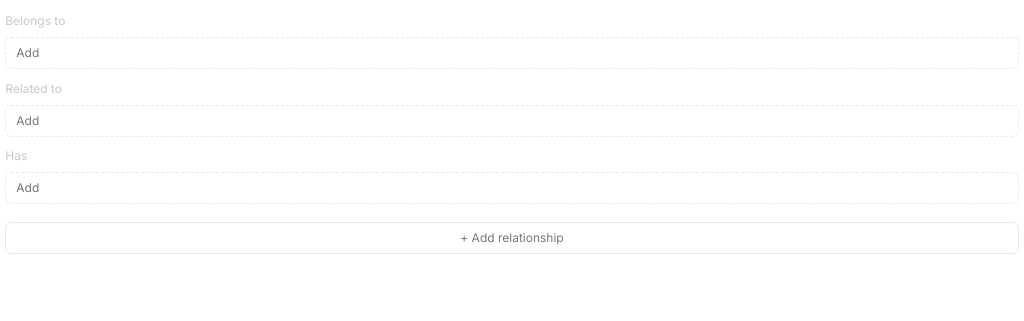
Test: DynamicRelationshipsPanel › cancels add relationship form
The width and height of the screenshot is (1024, 321).
Click the button "+ Add relationship" at (512, 238), box [5, 222, 1019, 254]
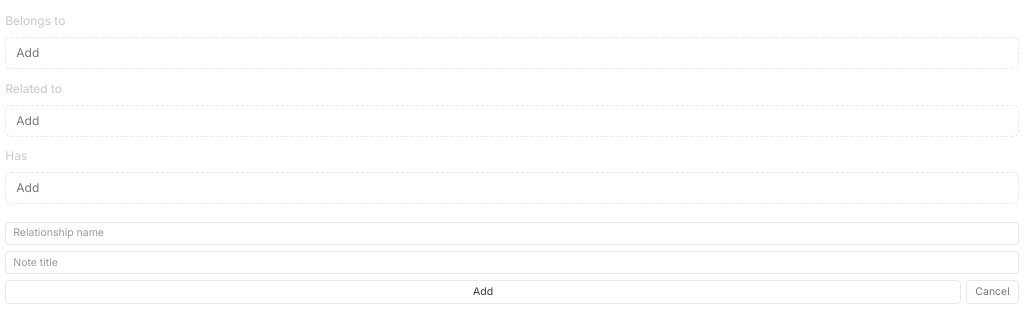
Click the button "Cancel" at (992, 292), box [966, 280, 1019, 304]
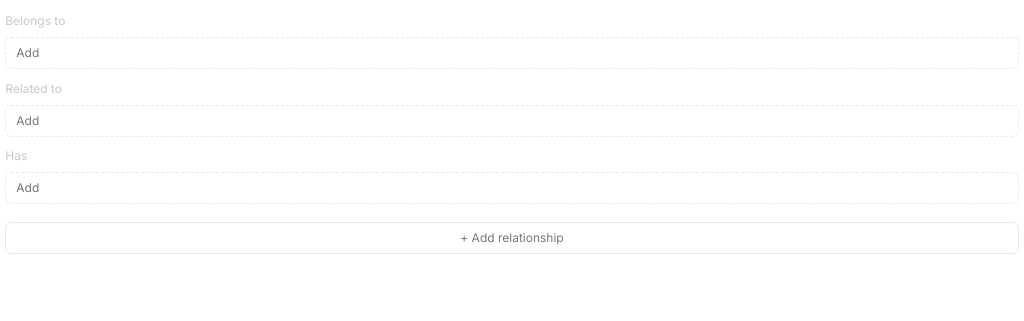
Check: the button "+ Add relationship" is shown, box [5, 222, 1019, 254]
